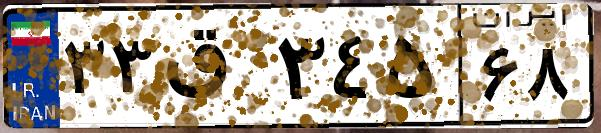3: (270, 28, 330, 110), (57, 26, 110, 100), (110, 28, 158, 98)
4: (330, 28, 385, 110)
5: (385, 28, 445, 110)
6: (475, 38, 525, 113)
8: (525, 38, 570, 115)
ق: (158, 20, 270, 120)
